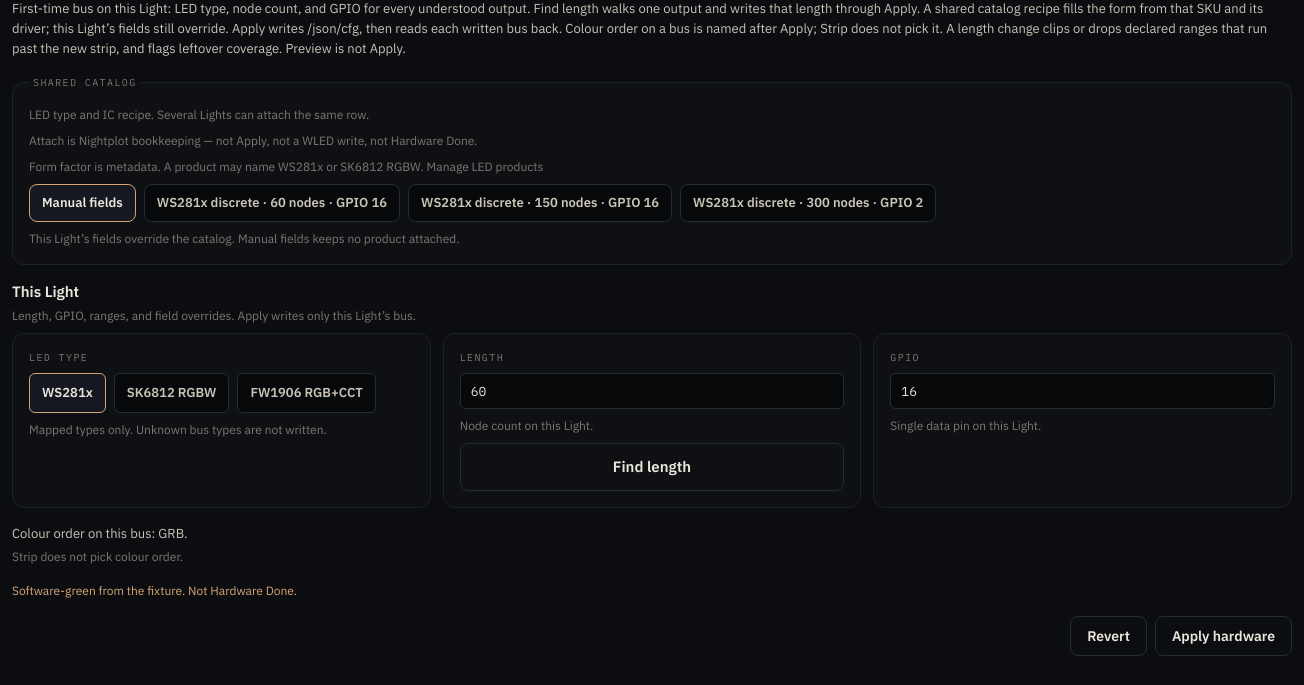
Test: Strip provision › keeps a write→reread mismatch on the failure UI
This screenshot has width=1304, height=685.
Click the button "Apply hardware".
click(1223, 636)  # box [1155,616,1292,656]
(page scrolled)
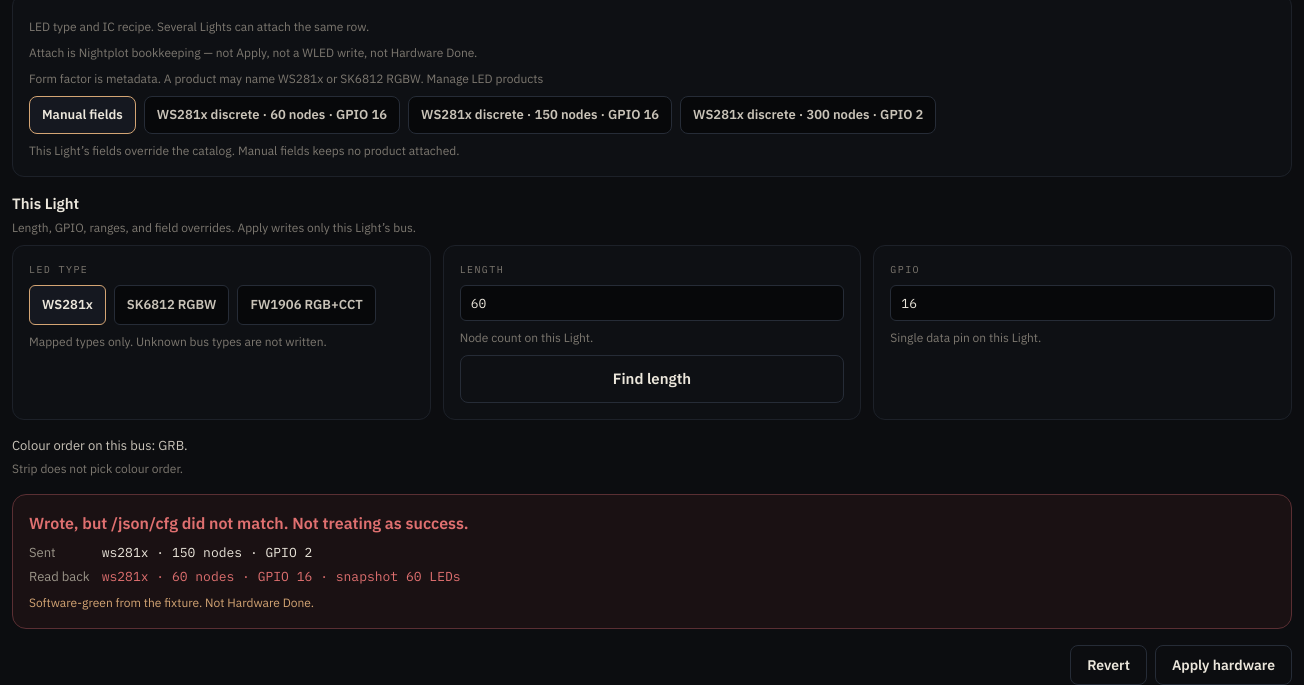
Expected: the text "Software-green from the fixture. Not Hardware Done." is shown, [29,595,314,610]
Now the text "ws281x · 150 nodes · GPIO 2" is shown, box [102,544,312,561]
Now the text "Wrote, but /json/cfg did not match. Not treating as success." is shown, box [29,513,469,533]
